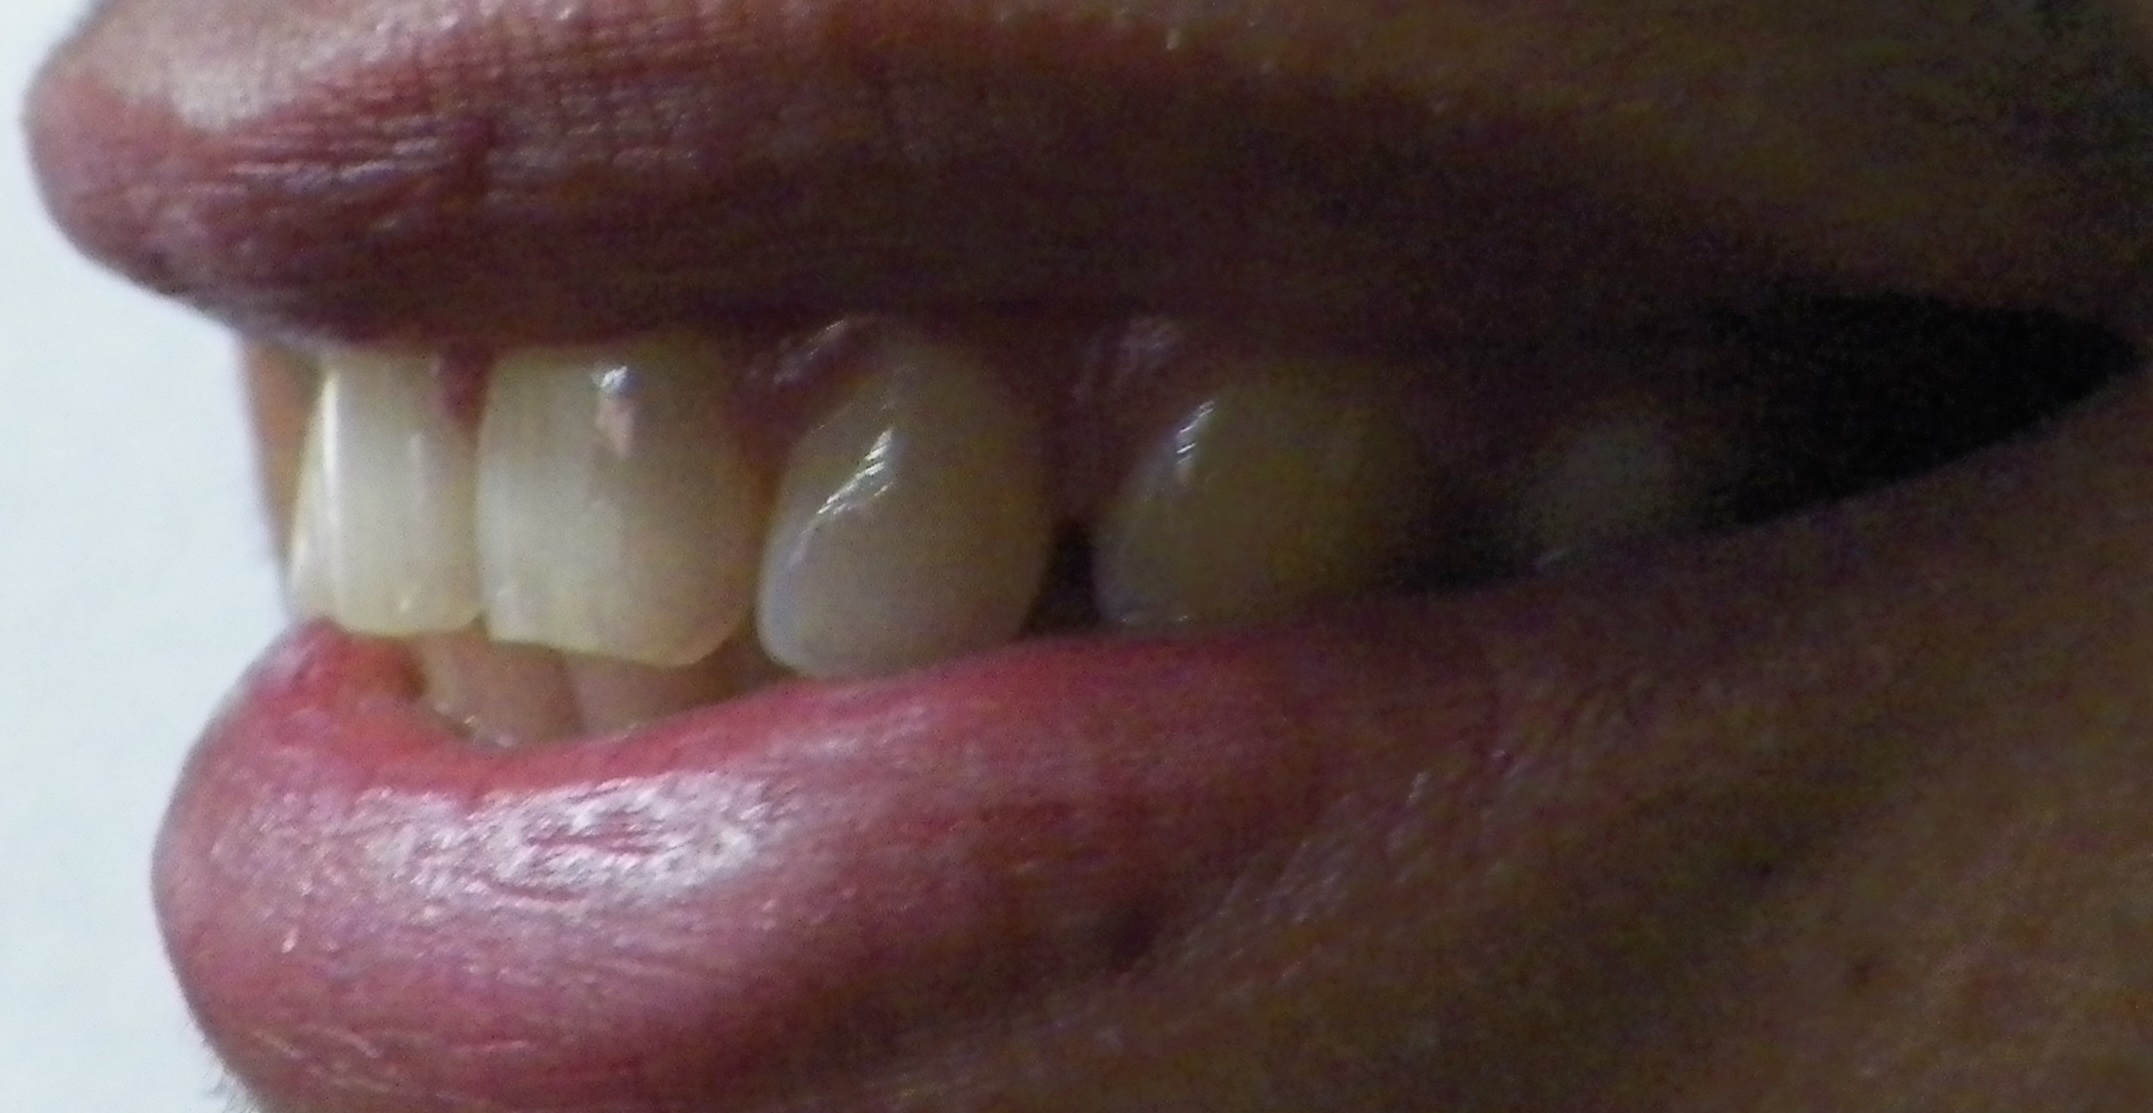boca: (280, 331, 1829, 757)
